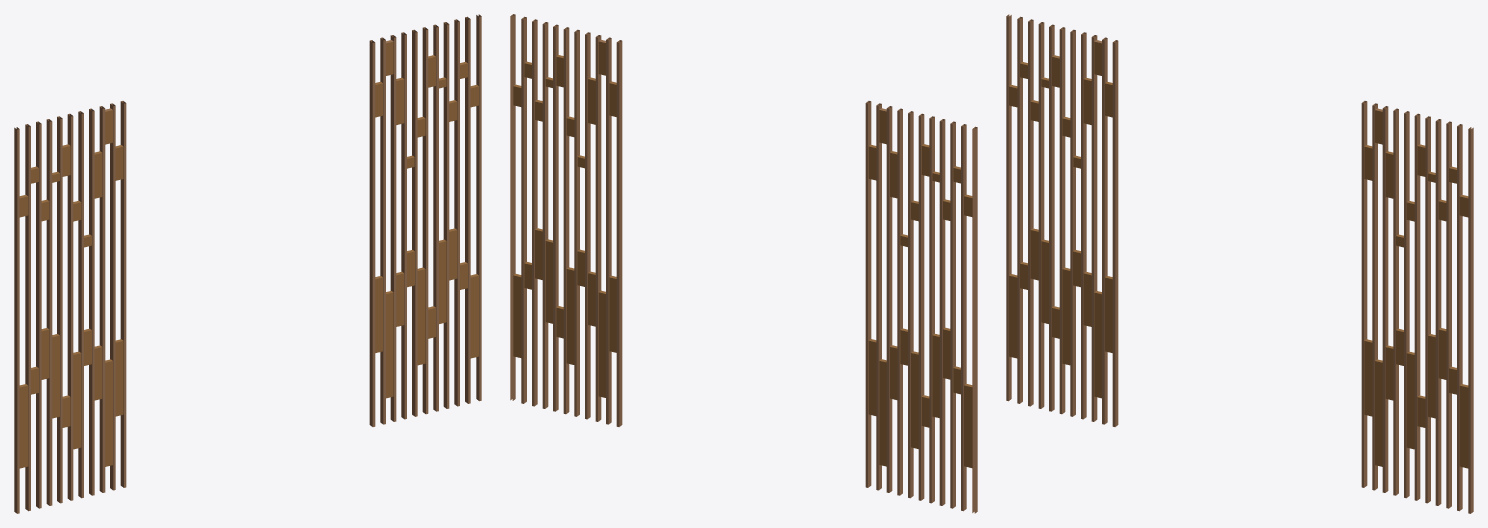
Rendered from kazari.fbx.
3 renders of one model, left to right at view 1: azimuth 30°, elevation 25°; view 2: azimuth 150°, elevation 25°; view 3: azimuth 330°, elevation 25°, orthographic.
Visible parts, largest first — view 1: hotel; view 2: hotel; view 3: hotel.
Boxes of the visible parts, bbox=[...] form: hotel: bbox=[14, 14, 481, 513]; hotel: bbox=[510, 14, 977, 513]; hotel: bbox=[1006, 14, 1473, 513].
Bounding box in the file's own units: 861 × 681 × 10.34.
